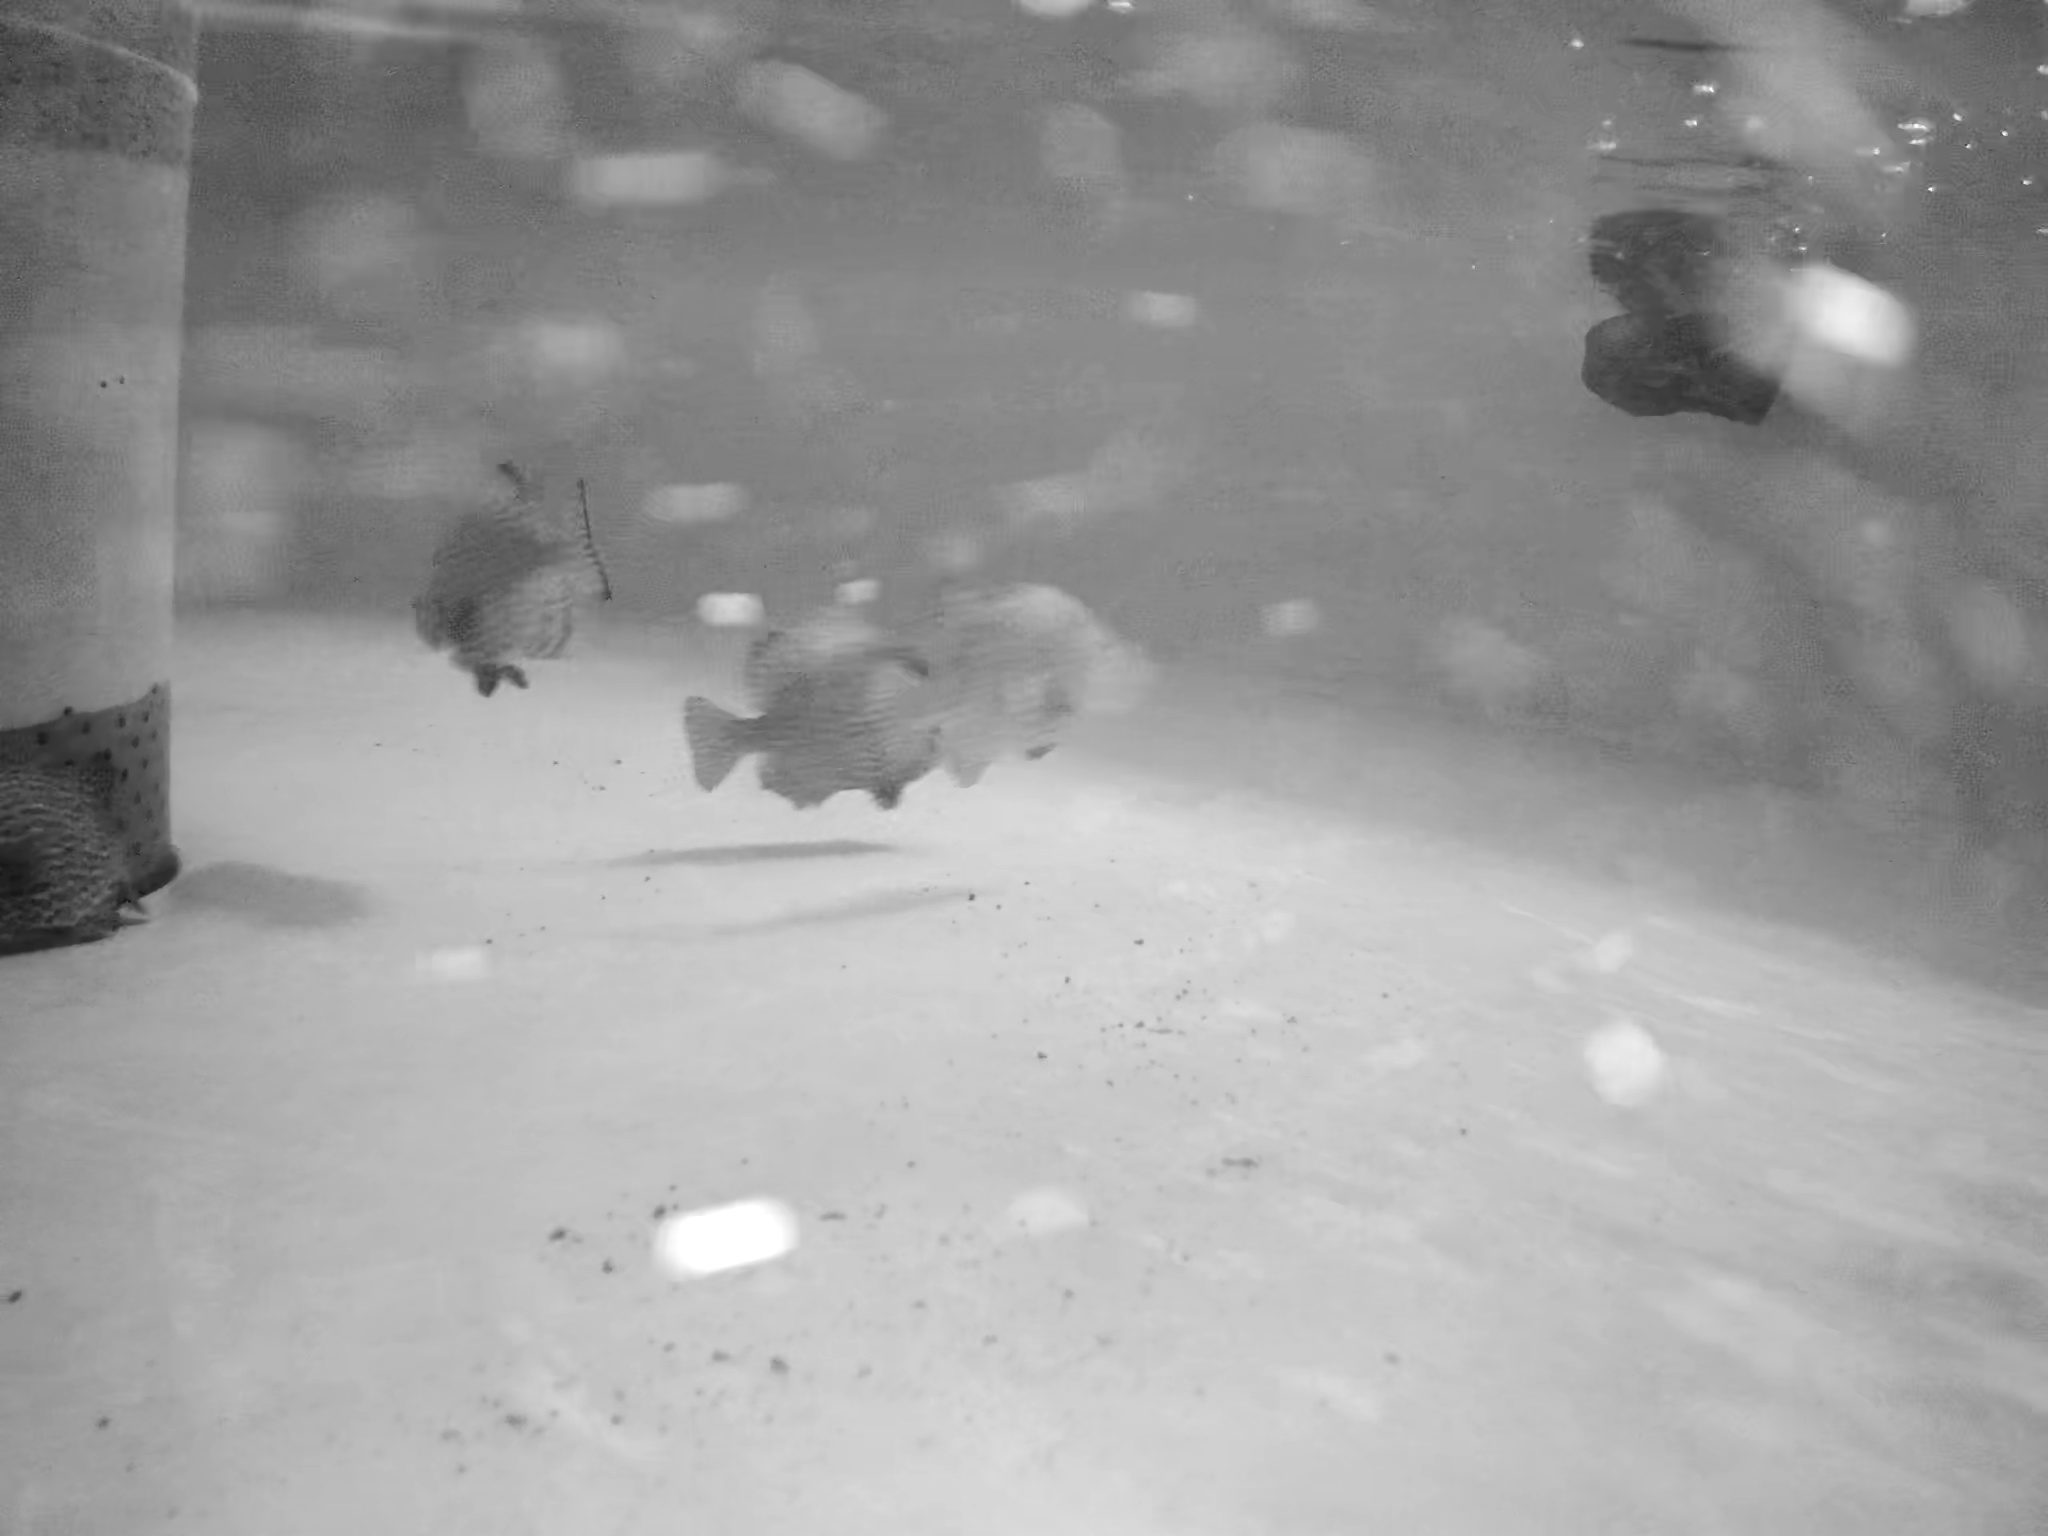fish: (681, 602, 948, 836), (922, 549, 1156, 791), (416, 479, 629, 691), (2, 771, 181, 944)
